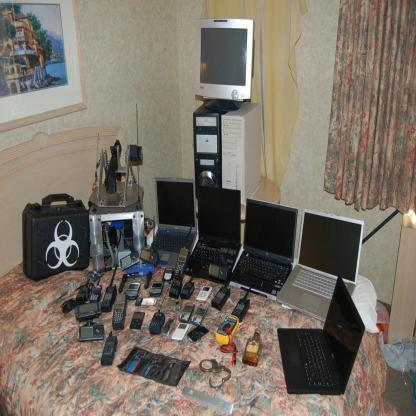board: (277, 274, 365, 392), (276, 210, 364, 319), (234, 191, 304, 307), (185, 184, 240, 286), (153, 178, 198, 266), (243, 328, 262, 366)
